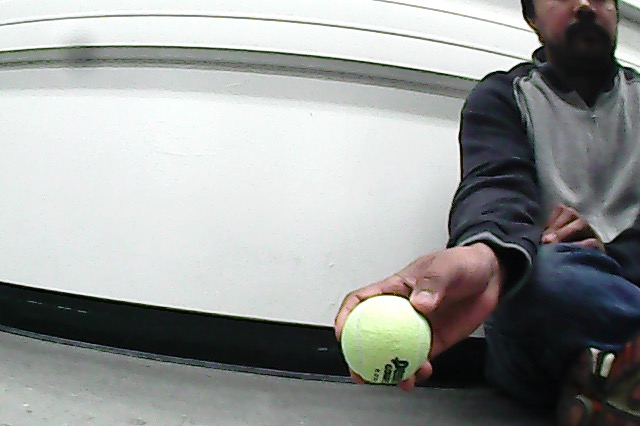ball: (340, 291, 435, 388)
